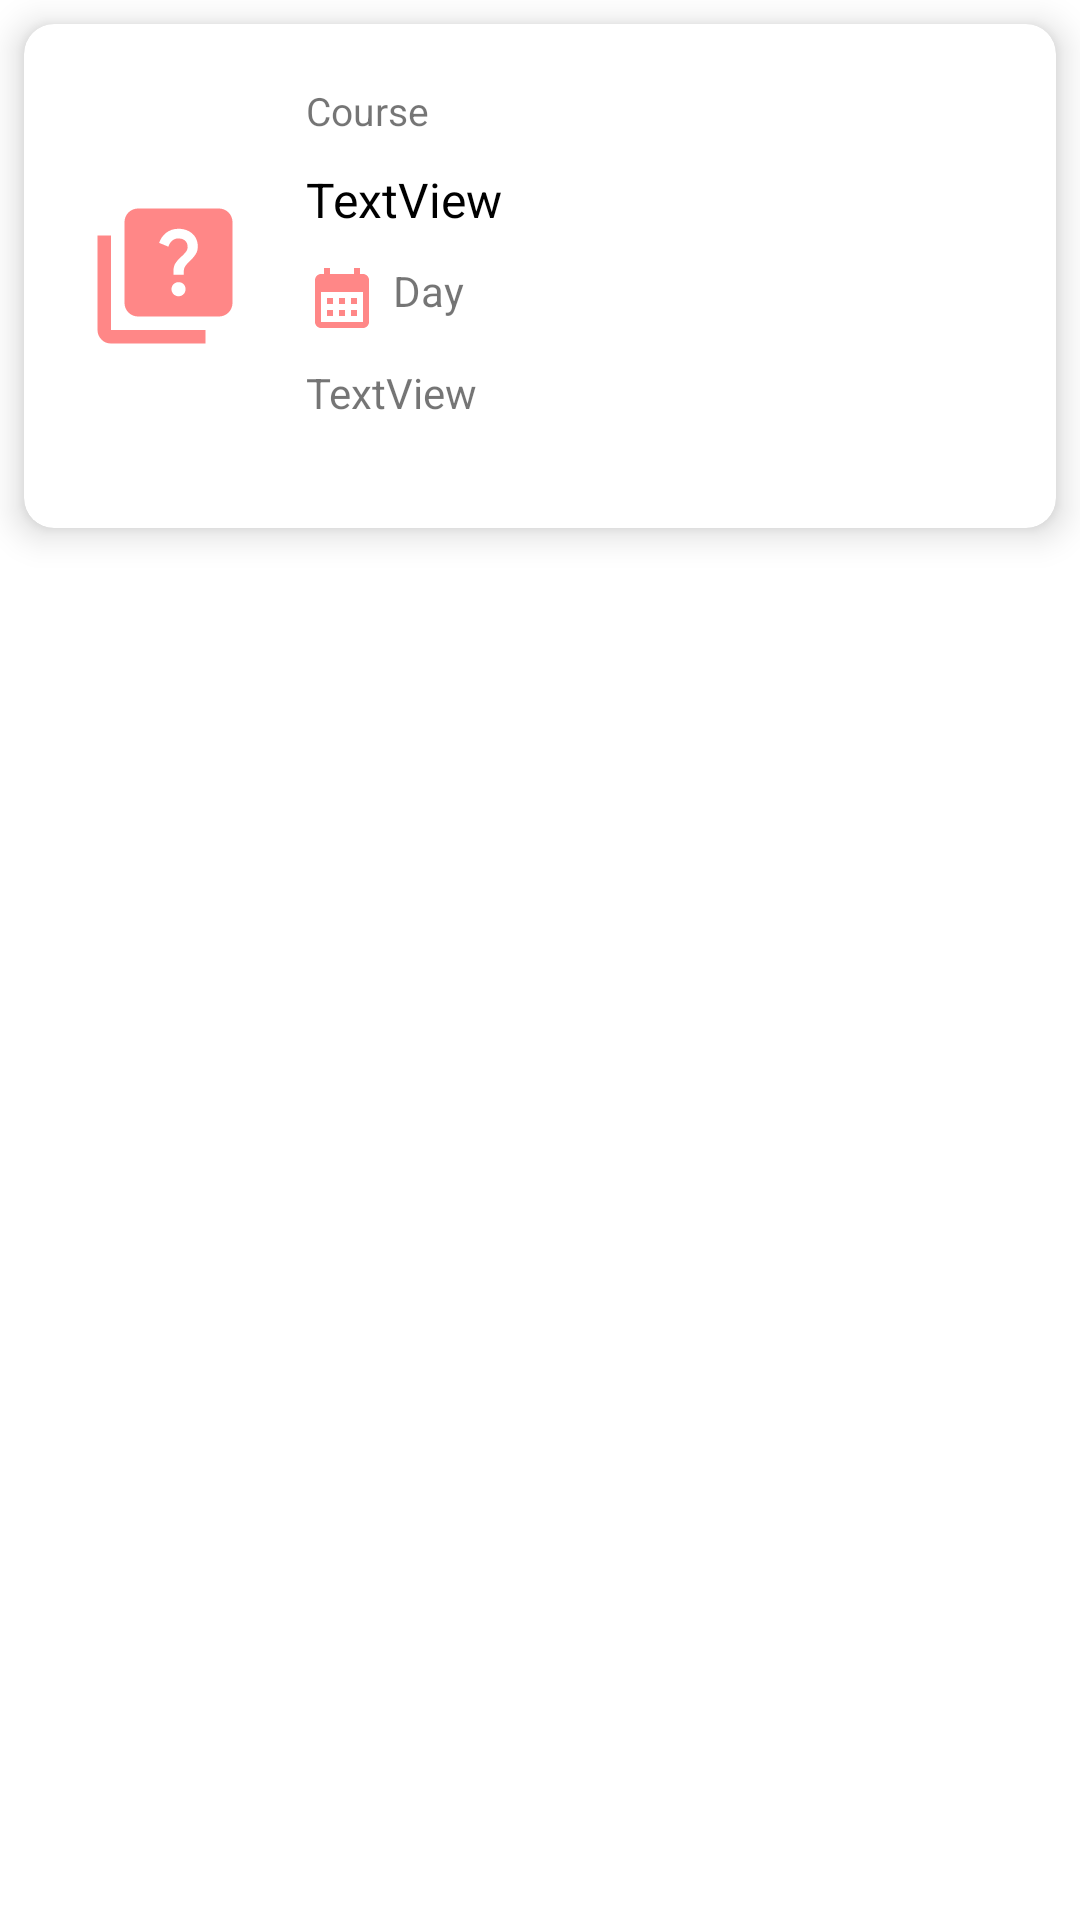

Screen size 1080×1920. Icon name, then its center in pixels as [x,y]:
icon quiz: [165,276]
